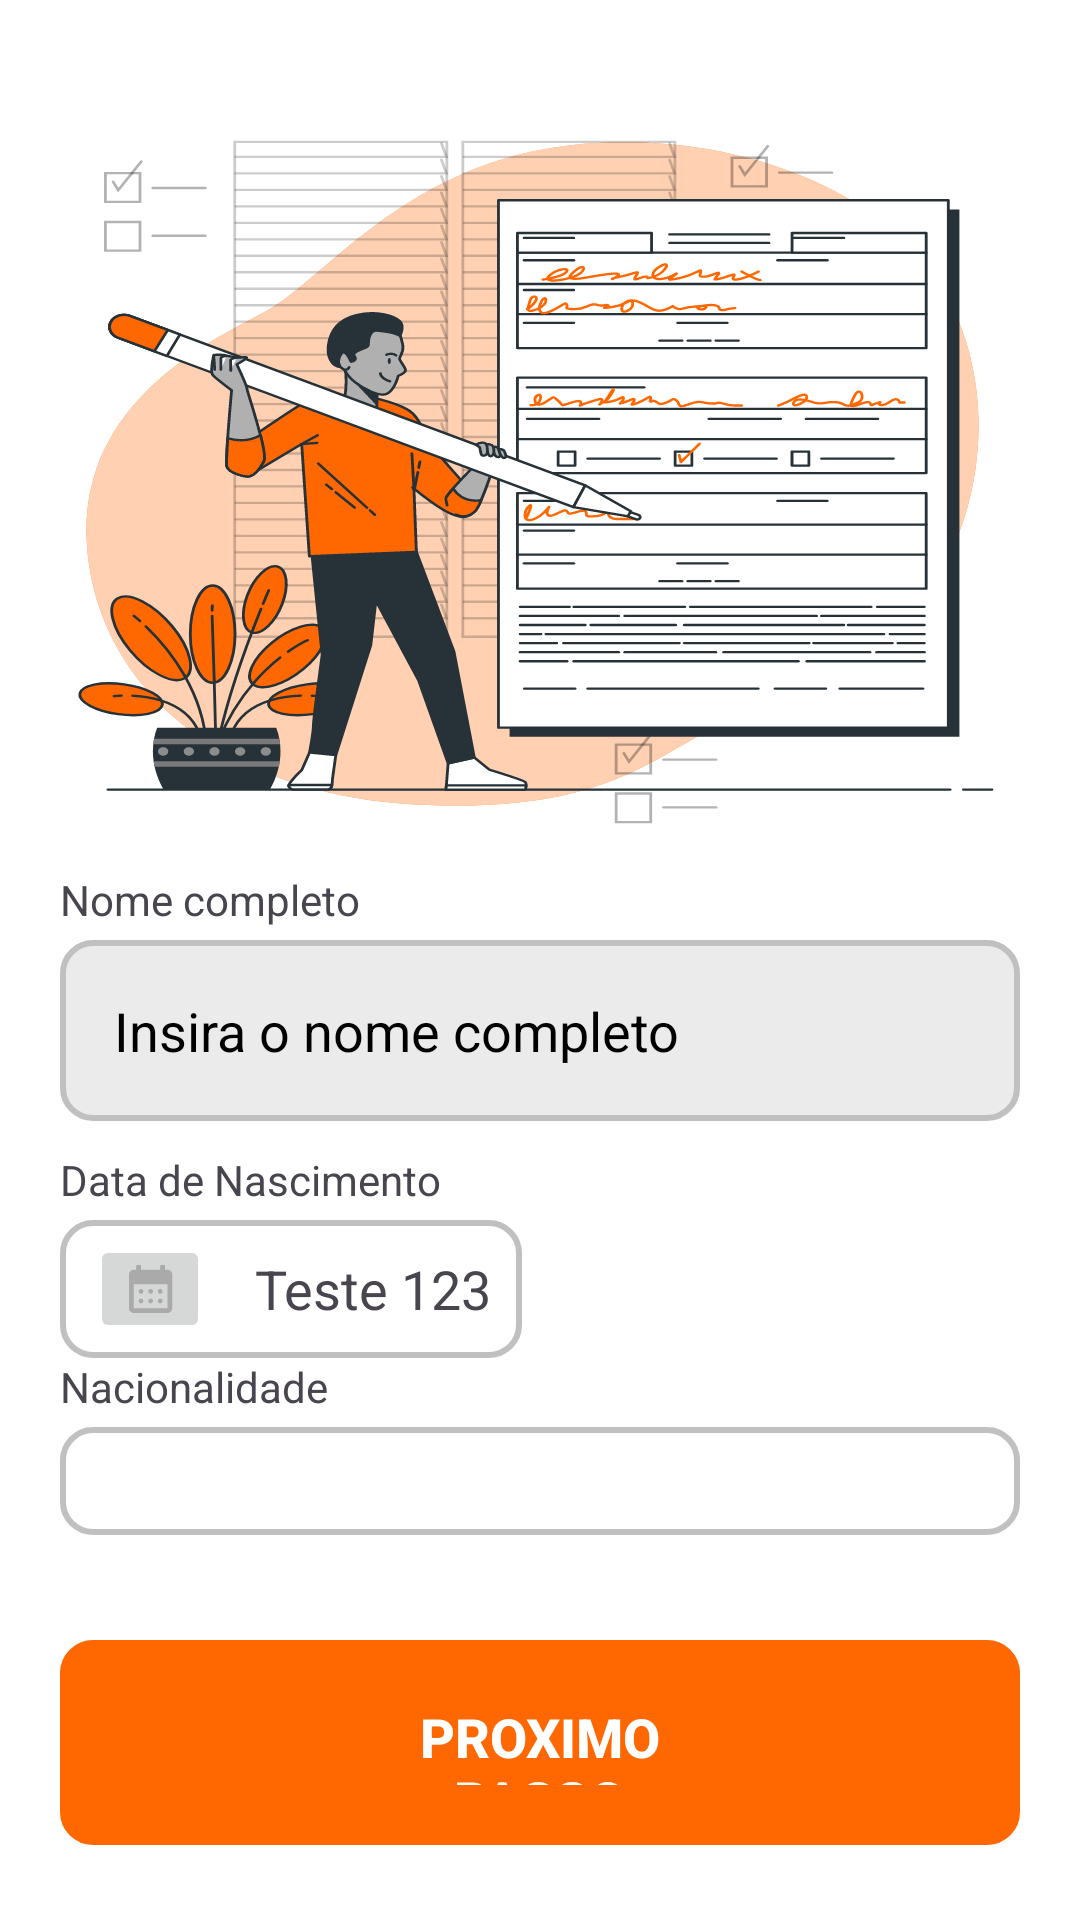

Where icons sit on this 1080x1920 app screen, as box=[x1, y1, x2, y2]:
calendar: box=[102, 1253, 198, 1325]
